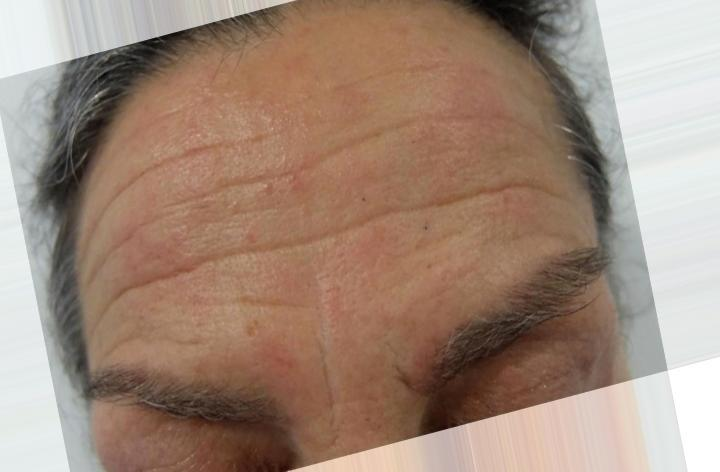Contact Dermatitis: (108, 108, 541, 290)
